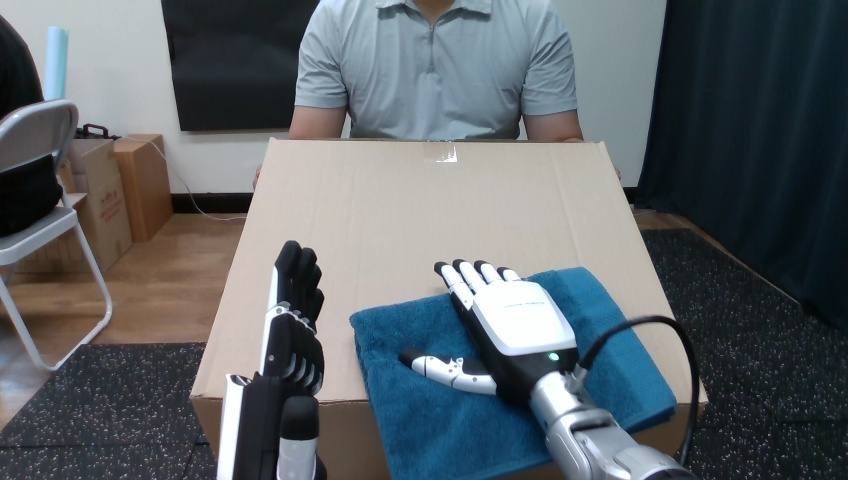left robot hand: (400, 259, 698, 479), (217, 240, 323, 479)
